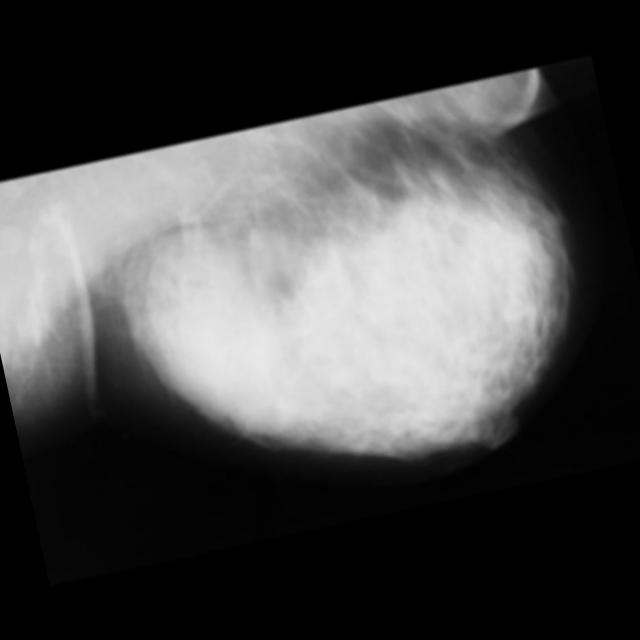CALC: (258, 396, 292, 430)
